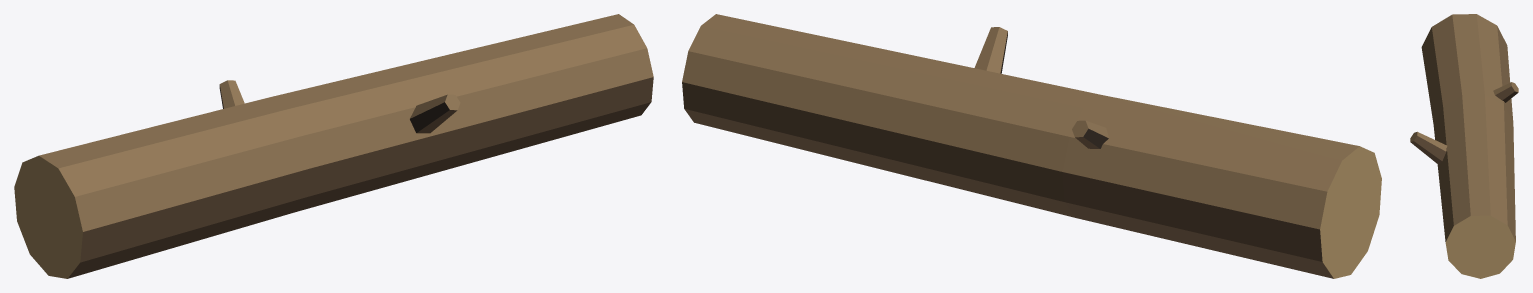
The model's file is TW_PROP_LOG_STRAIGHT_B_LOD0.glb.
The picture shows the model from 3 angles, left to right: view 1: azimuth 30°, elevation 25°; view 2: azimuth 150°, elevation 25°; view 3: azimuth 270°, elevation 25°; orthographic projection. The views are drawn at different scales.
Parts seen in each view (by area): view 1: TW_PROP_LOG_STRAIGHT_B_LOD0; view 2: TW_PROP_LOG_STRAIGHT_B_LOD0; view 3: TW_PROP_LOG_STRAIGHT_B_LOD0.
Part boxes in pixels (x1,y1,x2,y2): TW_PROP_LOG_STRAIGHT_B_LOD0: (14,14,653,278); TW_PROP_LOG_STRAIGHT_B_LOD0: (682,14,1381,278); TW_PROP_LOG_STRAIGHT_B_LOD0: (1410,14,1518,278).
Size of the model in its own units: 2.57 by 0.4873 by 0.5983.
Materials: 1 (1 with a texture image).
